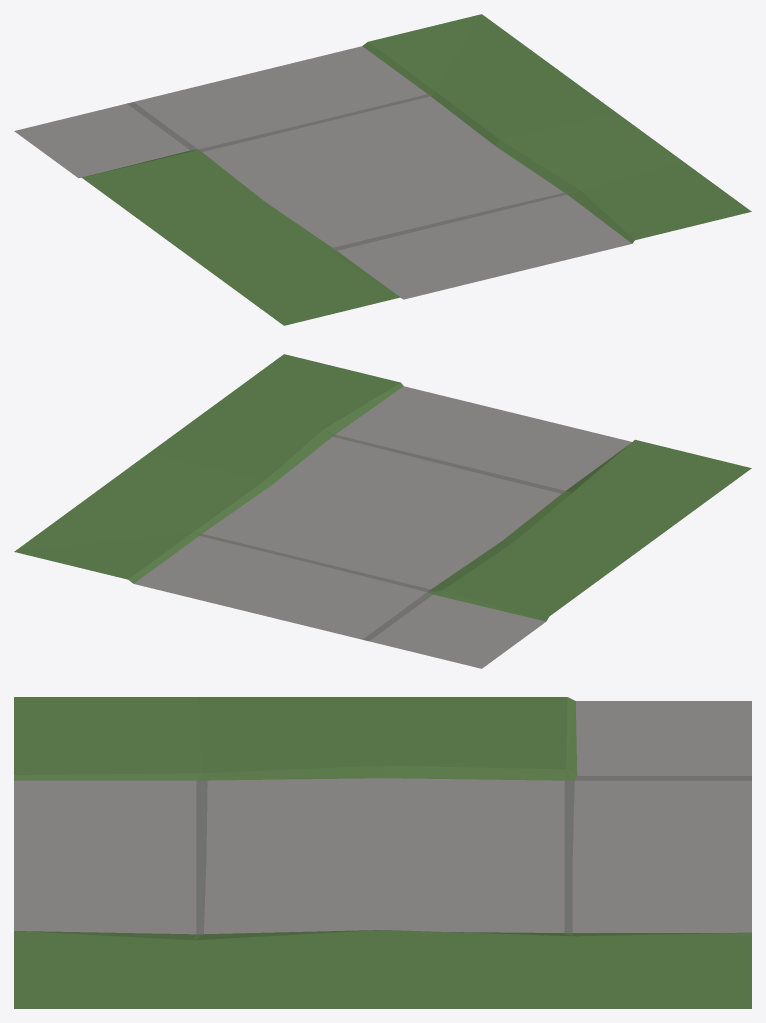
Rendered from SM_Env_Driveway_PathLeft_01.fbx.
3 renders of one model, top to bottom at view 1: azimuth 30°, elevation 25°; view 2: azimuth 150°, elevation 25°; view 3: azimuth 270°, elevation 25°, orthographic. The views are drawn at different scales.
Visible parts, largest first — view 1: SM_Env_Driveway_PathLeft_01; view 2: SM_Env_Driveway_PathLeft_01; view 3: SM_Env_Driveway_PathLeft_01.
Boxes of the visible parts, bbox=[...] form: SM_Env_Driveway_PathLeft_01: bbox=[14, 14, 751, 325]; SM_Env_Driveway_PathLeft_01: bbox=[14, 354, 751, 668]; SM_Env_Driveway_PathLeft_01: bbox=[14, 697, 751, 1008].
Bounding box in the file's own units: 500 × 4.07 × 500.
